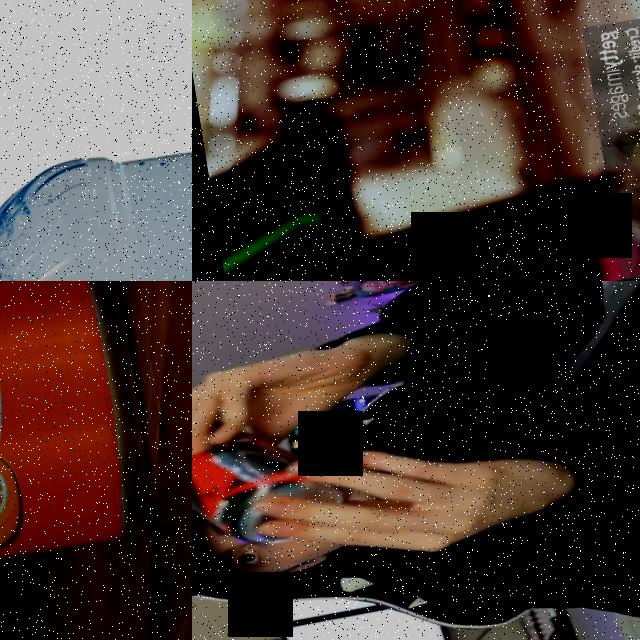bottle: (0, 94, 192, 281)
can: (0, 281, 164, 609), (192, 388, 352, 565)
